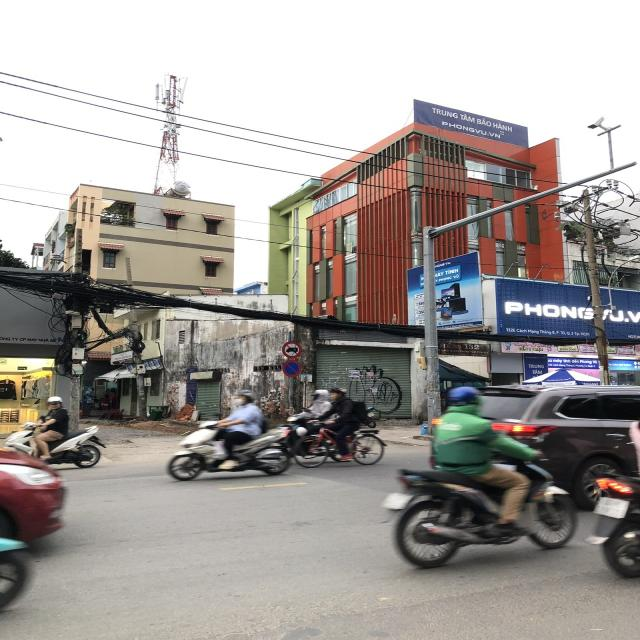Bien bao cam do xe: (280, 359, 302, 377)
Bien bao cam xe oto tai: (281, 340, 304, 359)
